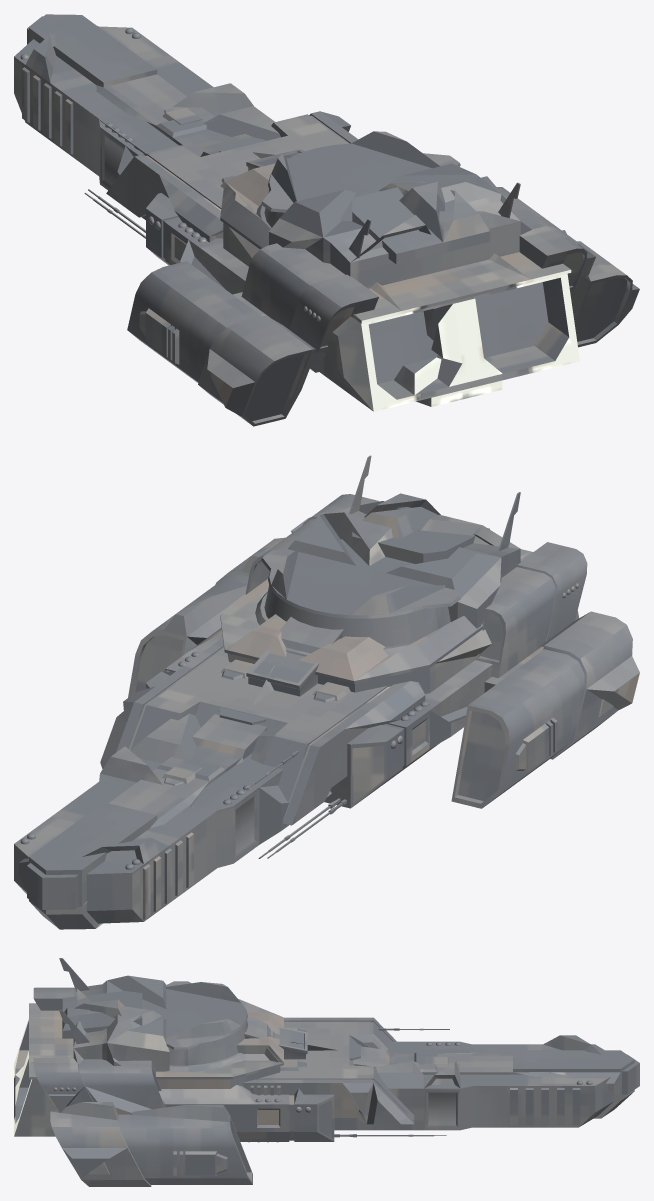
File: insurgent.glb
3 views of the same model, one above another, from view 1: azimuth 30°, elevation 25°; view 2: azimuth 150°, elevation 25°; view 3: azimuth 270°, elevation 25° (orthographic). The views are drawn at different scales.
Visible parts, largest first — view 1: Ship; view 2: Ship; view 3: Ship.
Boxes of the visible parts, bbox=[...] form: Ship: bbox=[14, 14, 639, 426]; Ship: bbox=[14, 455, 639, 929]; Ship: bbox=[14, 958, 639, 1186].
Bounding box in the file's own units: 4.86 × 2.36 × 9.
1 material, 1 textured.
